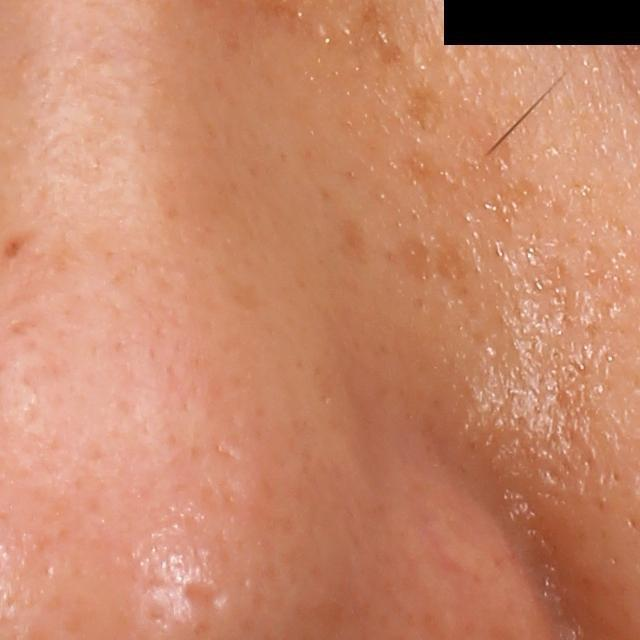atrophic_scar: (181, 576, 240, 620)
melasma: (349, 0, 409, 66), (435, 227, 481, 280), (407, 80, 445, 132)
nevus: (5, 233, 35, 261)
